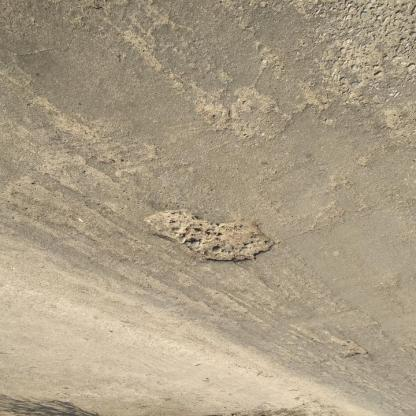pothole: (143, 211, 278, 266), (333, 337, 372, 363)
